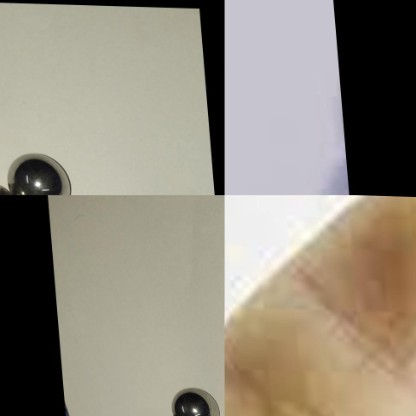ironball: (6, 145, 73, 194), (169, 384, 219, 416)
